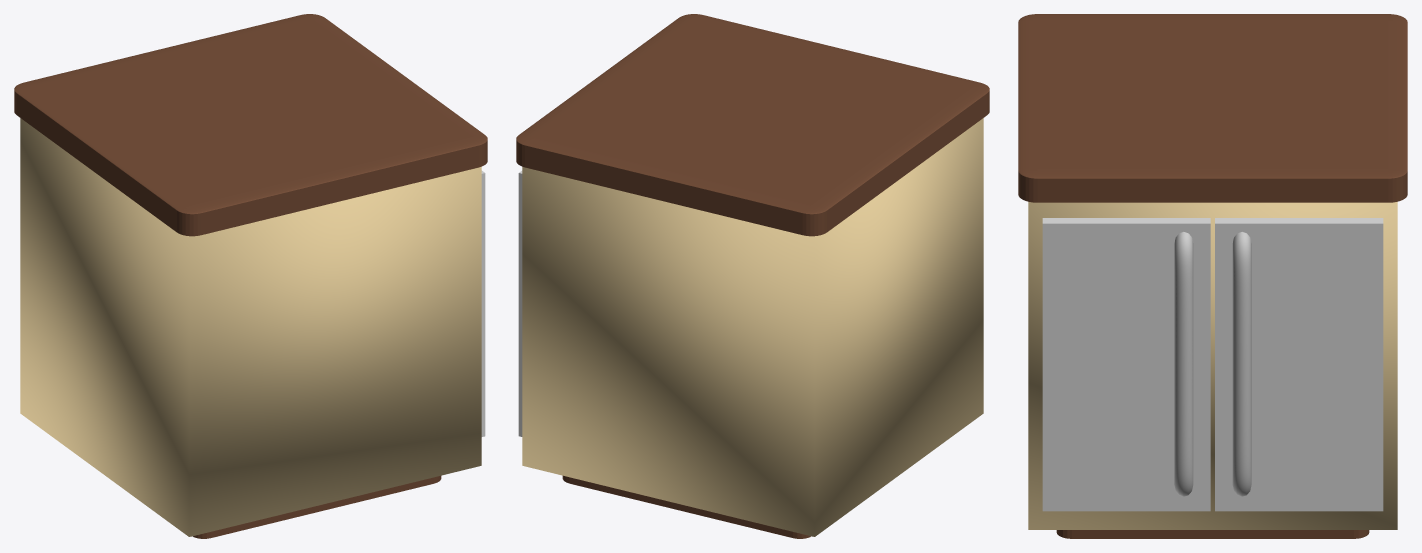
Rendered from Container.fbx.
The picture shows the model from 3 angles, left to right: view 1: azimuth 30°, elevation 25°; view 2: azimuth 150°, elevation 25°; view 3: azimuth 270°, elevation 25°; orthographic projection. The views are drawn at different scales.
Parts seen in each view (by area): view 1: Cube, Cube.004, Cube.003, Cube.002; view 2: Cube, Cube.004, Cube.003, Cube.001; view 3: Cube.004, Cube.001, Cube.002, Cube, NurbsPath, NurbsPath.001, Cube.003.
Boxes of the visible parts, x1=… form: Cube: x1=20, y1=118, x2=481, y2=536; Cube.004: x1=14, y1=14, x2=487, y2=236; Cube.003: x1=193, y1=475, x2=441, y2=538; Cube.002: x1=481, y1=170, x2=485, y2=436; Cube: x1=522, y1=118, x2=983, y2=536; Cube.004: x1=516, y1=14, x2=989, y2=236; Cube.003: x1=562, y1=475, x2=810, y2=538; Cube.001: x1=518, y1=170, x2=522, y2=436; Cube.004: x1=1018, y1=14, x2=1407, y2=202; Cube.001: x1=1215, y1=218, x2=1383, y2=511; Cube.002: x1=1042, y1=218, x2=1210, y2=511; Cube: x1=1028, y1=202, x2=1397, y2=529; NurbsPath: x1=1174, y1=232, x2=1193, y2=496; NurbsPath.001: x1=1232, y1=232, x2=1251, y2=496; Cube.003: x1=1056, y1=530, x2=1369, y2=538.
Size of the model in its own units: 224 by 227 by 211.
